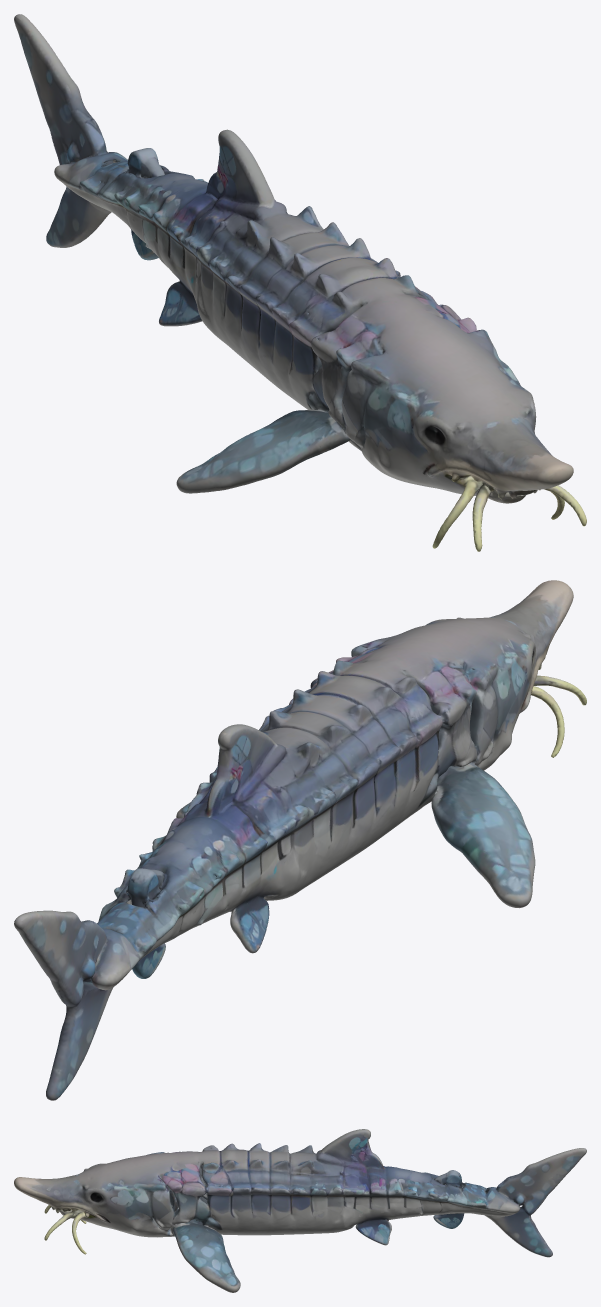
Rendered from fish_fathom_sturgeon.glb.
3 views of the same model, one above another, from view 1: azimuth 30°, elevation 25°; view 2: azimuth 150°, elevation 25°; view 3: azimuth 270°, elevation 25° (orthographic). The views are drawn at different scales.
Visible parts, largest first — view 1: tripo_node_2d0627d1-15b6-473a-8a4f-a8e2d65329a5; view 2: tripo_node_2d0627d1-15b6-473a-8a4f-a8e2d65329a5; view 3: tripo_node_2d0627d1-15b6-473a-8a4f-a8e2d65329a5.
Part boxes in pixels (x1,y1,x2,y2): tripo_node_2d0627d1-15b6-473a-8a4f-a8e2d65329a5: (14,14,586,551); tripo_node_2d0627d1-15b6-473a-8a4f-a8e2d65329a5: (14,580,586,1100); tripo_node_2d0627d1-15b6-473a-8a4f-a8e2d65329a5: (14,1129,586,1292).
Bounding box in the file's own units: 0.3723 × 0.2452 × 1.
Materials: 1 (1 with a texture image).
